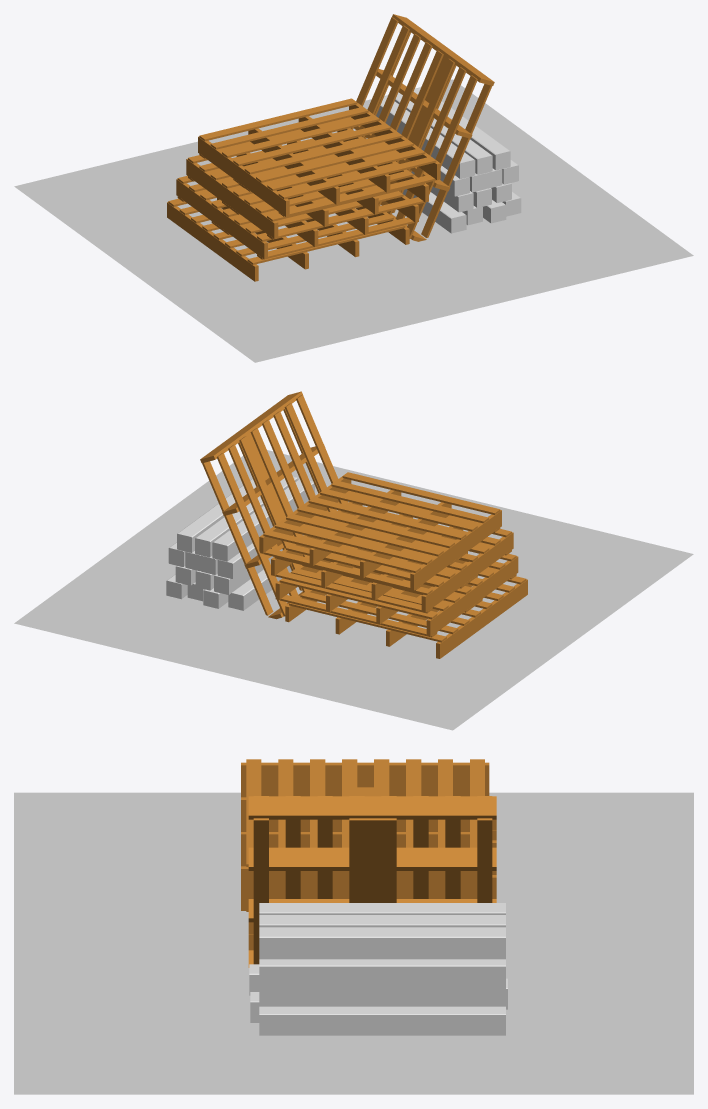
File: Pallets.fbx
3 renders of one model, top to bottom at view 1: azimuth 30°, elevation 25°; view 2: azimuth 150°, elevation 25°; view 3: azimuth 270°, elevation 25°, orthographic. The views are drawn at different scales.
Visible parts, largest first — view 1: Floor, Pallets.004, Pallets.001, Pallets.003, Pallets.002, Pallets, Wood.013, Wood.011, Wood.012, Wood; view 2: Floor, Pallets.004, Pallets.001, Pallets.003, Pallets.002, Pallets, Wood.013, Wood.011, Wood.012, Wood, Wood.006, Wood.007; view 3: Floor, Pallets.001, Pallets.004, Wood.011, Wood.003, Wood.010, Wood.004, Wood.012, Wood.013, Pallets.003.
Boxes of the visible parts, x1=… form: Floor: x1=14, y1=79, x2=693, y2=362; Pallets.004: x1=198, y1=98, x2=440, y2=217; Pallets.001: x1=350, y1=14, x2=494, y2=241; Pallets.003: x1=186, y1=128, x2=428, y2=239; Pallets.002: x1=176, y1=175, x2=418, y2=259; Pallets: x1=167, y1=197, x2=409, y2=281; Wood.013: x1=376, y1=96, x2=475, y2=178; Wood.011: x1=413, y1=87, x2=510, y2=170; Wood.012: x1=395, y1=93, x2=492, y2=174; Wood: x1=402, y1=189, x2=466, y2=233; Floor: x1=14, y1=450, x2=693, y2=730; Pallets.004: x1=259, y1=472, x2=501, y2=590; Pallets.001: x1=200, y1=391, x2=348, y2=619; Pallets.003: x1=271, y1=502, x2=513, y2=613; Pallets.002: x1=275, y1=550, x2=518, y2=637; Pallets: x1=285, y1=576, x2=527, y2=658; Wood.013: x1=212, y1=479, x2=314, y2=561; Wood.011: x1=177, y1=478, x2=256, y2=552; Wood.012: x1=195, y1=476, x2=297, y2=557; Wood: x1=228, y1=565, x2=291, y2=610; Wood.006: x1=214, y1=535, x2=303, y2=594; Wood.007: x1=217, y1=543, x2=257, y2=578; Floor: x1=14, y1=792, x2=693, y2=1094; Pallets.001: x1=248, y1=796, x2=496, y2=967; Pallets.004: x1=241, y1=759, x2=489, y2=892; Wood.011: x1=259, y1=927, x2=505, y2=959; Wood.003: x1=259, y1=1006, x2=505, y2=1035; Wood.010: x1=259, y1=959, x2=505, y2=987; Wood.004: x1=259, y1=987, x2=505, y2=1006; Wood.012: x1=259, y1=915, x2=505, y2=927; Wood.013: x1=259, y1=903, x2=505, y2=914; Pallets.003: x1=241, y1=787, x2=489, y2=911.
Size of the model in its own units: 576 by 192 by 548.
